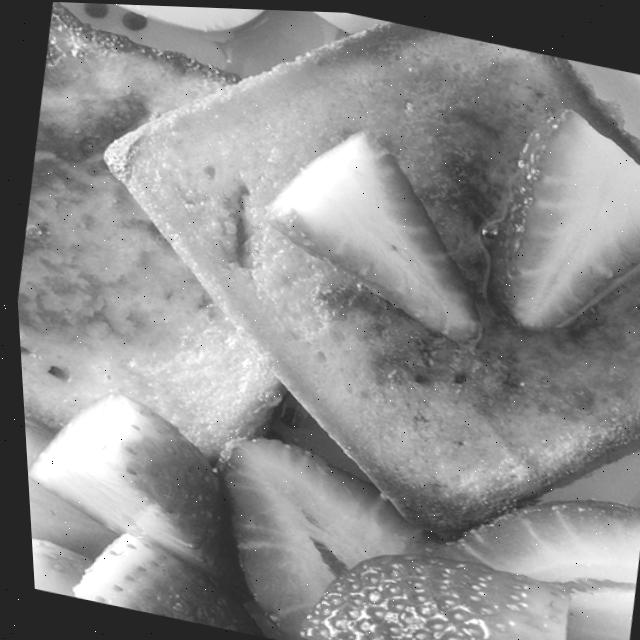面包点心: (0, 0, 640, 629)
